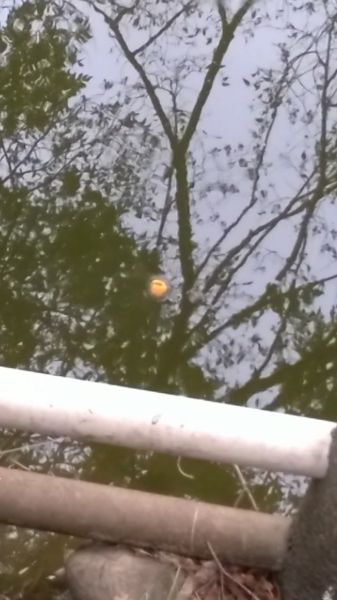eggs: (144, 276, 171, 302)
